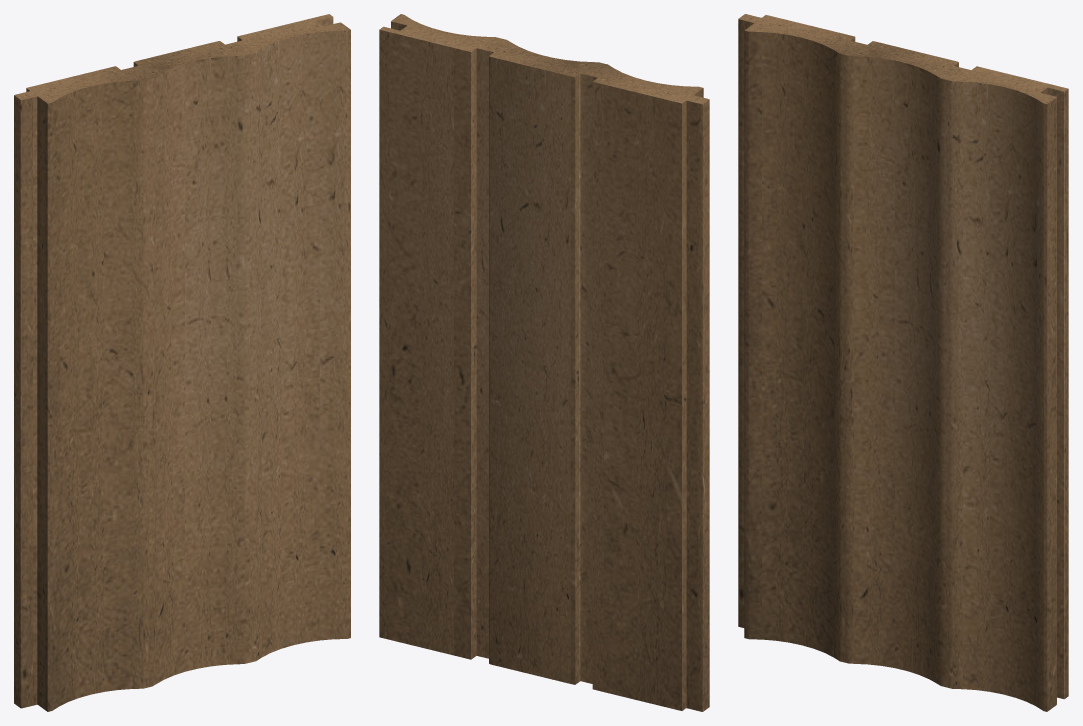
Rendered from capella.glb.
The picture shows the model from 3 angles, left to right: view 1: azimuth 30°, elevation 25°; view 2: azimuth 150°, elevation 25°; view 3: azimuth 330°, elevation 25°; orthographic projection.
Visible parts, largest first — view 1: root; view 2: root; view 3: root.
Part boxes in pixels (left/top/right/bottom): root: left=14, top=14, right=350, bottom=711; root: left=379, top=14, right=709, bottom=711; root: left=738, top=14, right=1068, bottom=711.
Bounding box in the file's own units: 0.12 × 0.2182 × 0.014.
2 materials, 2 textured.
